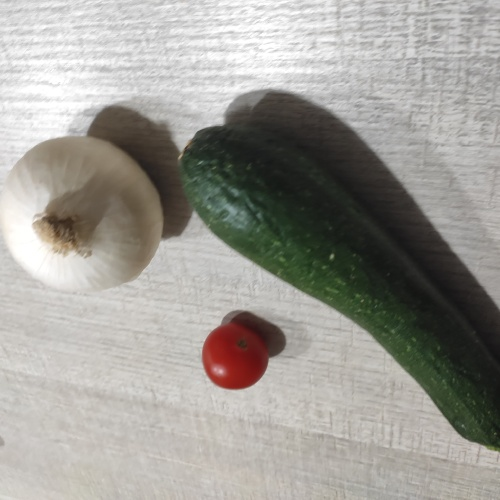cipolla: (8, 136, 159, 286)
pomodoro: (205, 323, 273, 387)
zucchine: (227, 134, 479, 440)
